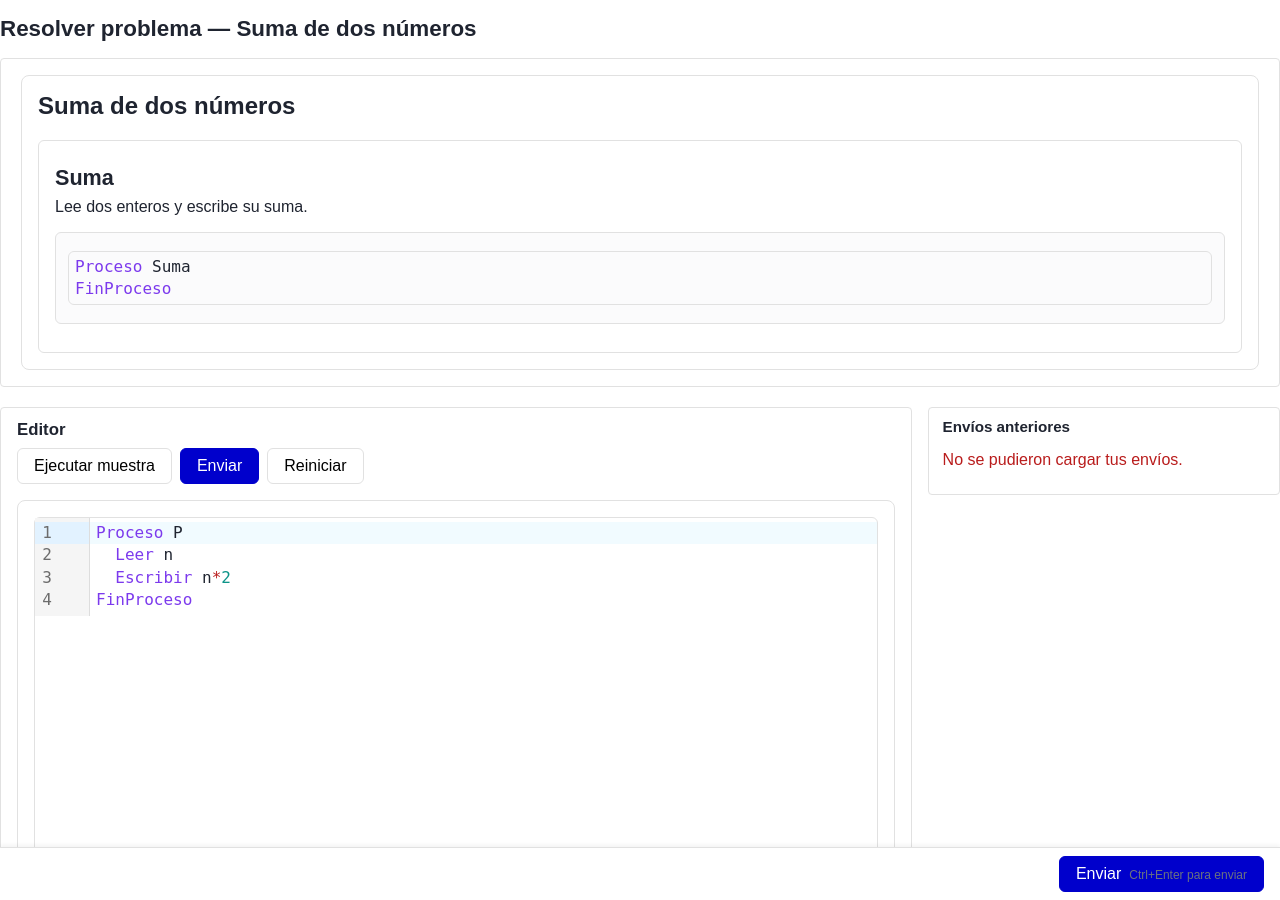
practice sandbox › POSTs /api/runs with mode=practice + stdin, closes the modal, and shows per-case rows
This screenshot has width=1280, height=900.
Expected: the heading "Suma de dos números" is shown, [38,92,295,119]
What coordinates should you click on to do the following:
click the button "Ejecutar muestra"
I would click on:
 (94, 466)
Its box is [17,448,172,484].
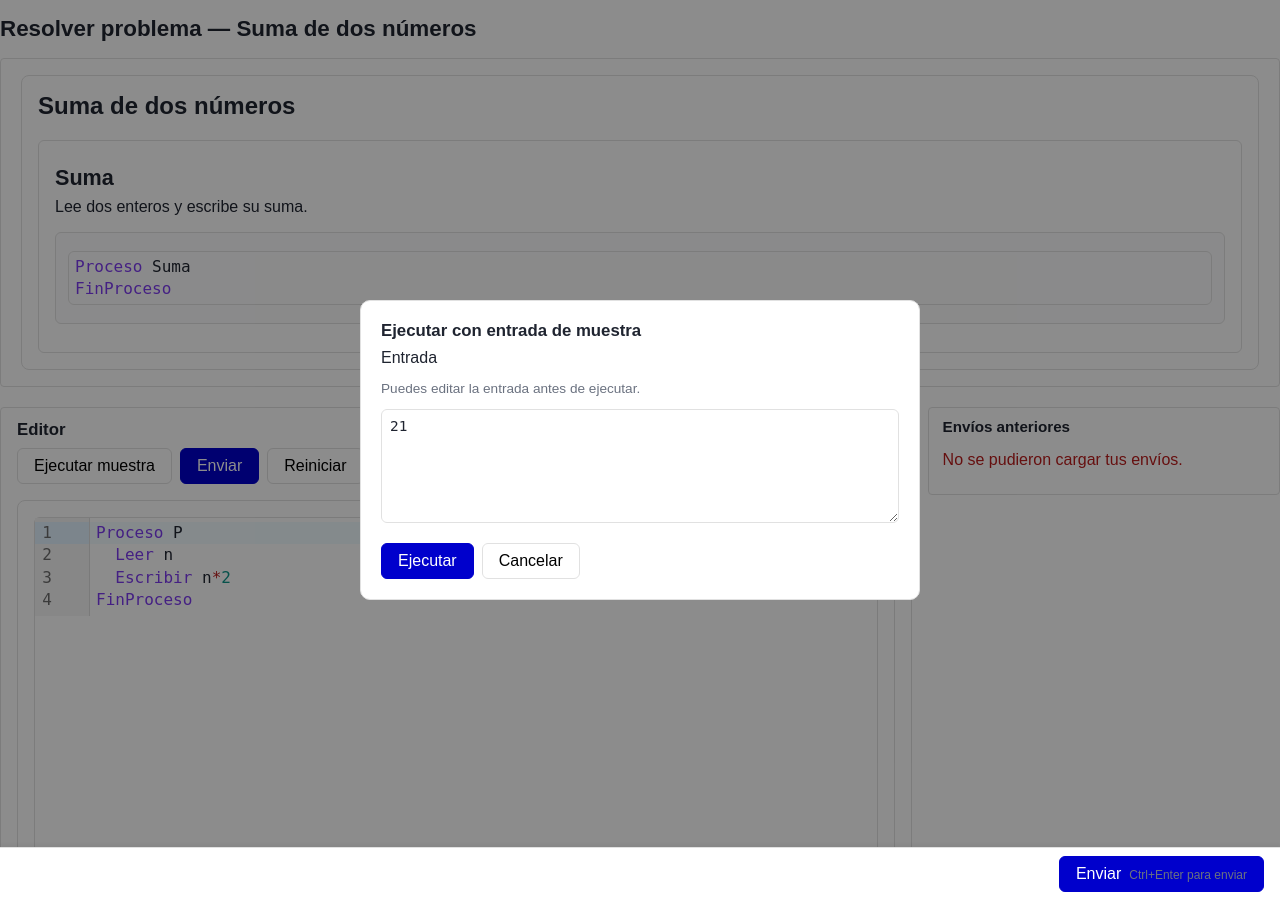
Expected: the dialog is shown, [360,300,920,600]
What coordinates should you click on to do the following:
click the button "Ejecutar"
I would click on:
 (427, 561)
Its box is [381,543,474,579].
(page scrolled)
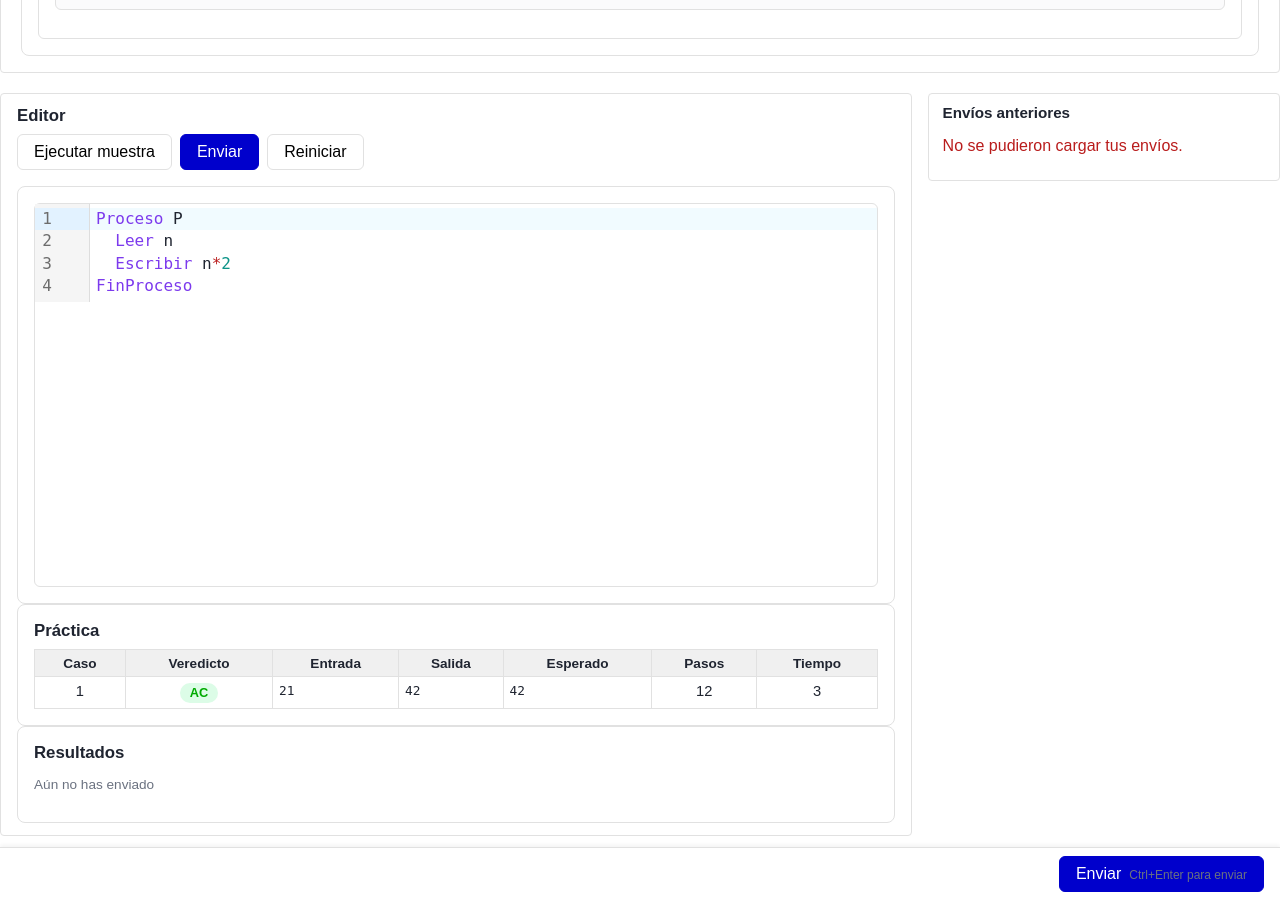
Expected: the dialog is gone
Expected: the text "AC" is shown, [180,683,218,703]
Expected: the 1st text "42" is shown, [405,683,420,698]
